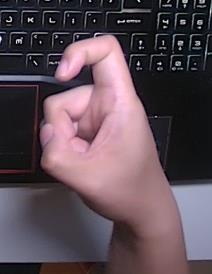anticlockwise: (34, 35, 178, 222)
